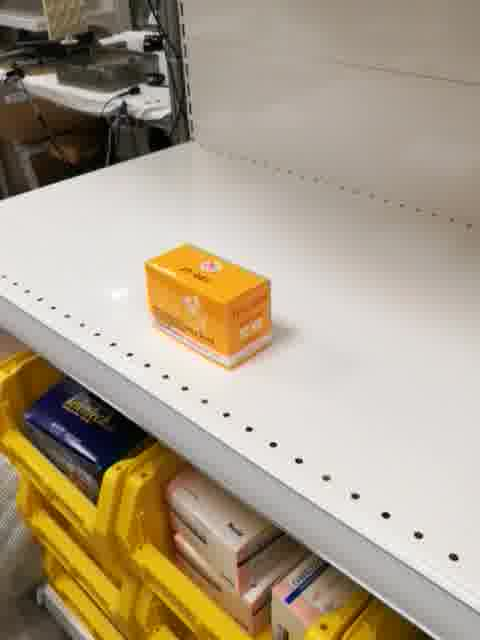jasminetea: (142, 239, 276, 375)
